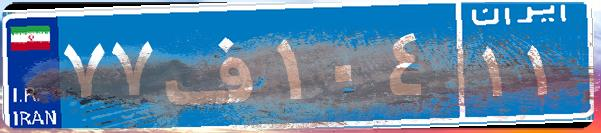0: (330, 28, 385, 110)
1: (273, 28, 330, 110), (475, 38, 525, 113), (525, 38, 570, 115)
4: (385, 28, 445, 110)
7: (57, 26, 110, 107), (110, 28, 158, 105)
ف: (158, 15, 273, 115)
